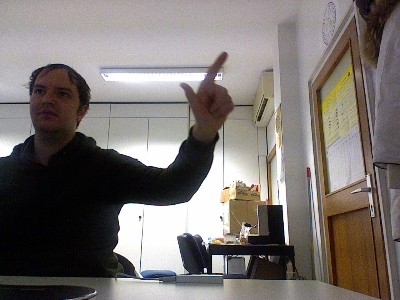枪: (178, 50, 234, 134)
